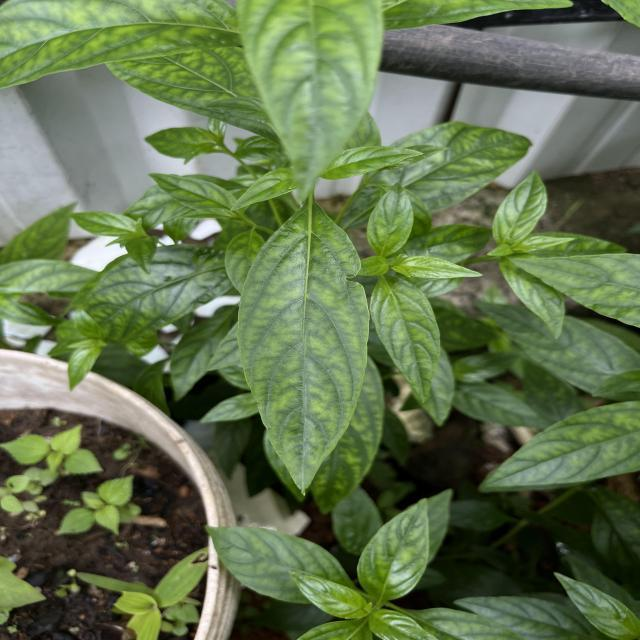Andrographis paniculata: (234, 200, 372, 500), (477, 398, 640, 494), (205, 522, 352, 606), (84, 244, 219, 333), (372, 279, 442, 402), (355, 496, 431, 604), (168, 304, 236, 402), (490, 170, 550, 248), (366, 181, 415, 258), (148, 172, 236, 214), (320, 146, 424, 180), (72, 211, 134, 238)
